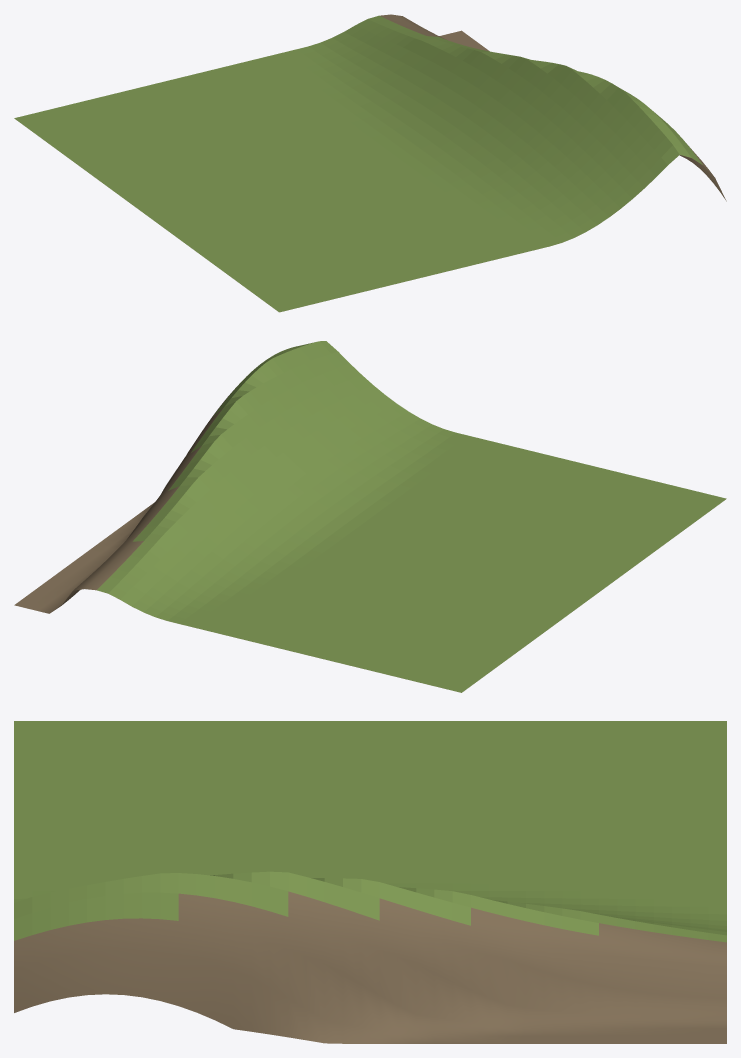
File: region_1_0.glb
3 renders of one model, top to bottom at view 1: azimuth 30°, elevation 25°; view 2: azimuth 150°, elevation 25°; view 3: azimuth 270°, elevation 25°, orthographic. The views are drawn at different scales.
Parts seen in each view (by area): view 1: OD_Meadow.016, OD_Ground.016; view 2: OD_Meadow.016, OD_Ground.016; view 3: OD_Meadow.016, OD_Ground.016.
Part boxes in pixels (left/top/right/bottom): OD_Meadow.016: left=14, top=15, right=702, bottom=312; OD_Ground.016: left=380, top=14, right=726, bottom=237; OD_Meadow.016: left=97, top=341, right=726, bottom=692; OD_Ground.016: left=14, top=388, right=461, bottom=692; OD_Meadow.016: left=14, top=721, right=726, bottom=942; OD_Ground.016: left=14, top=891, right=726, bottom=1043.
Size of the model in its own units: 31.52 by 7.01 by 32.35.
